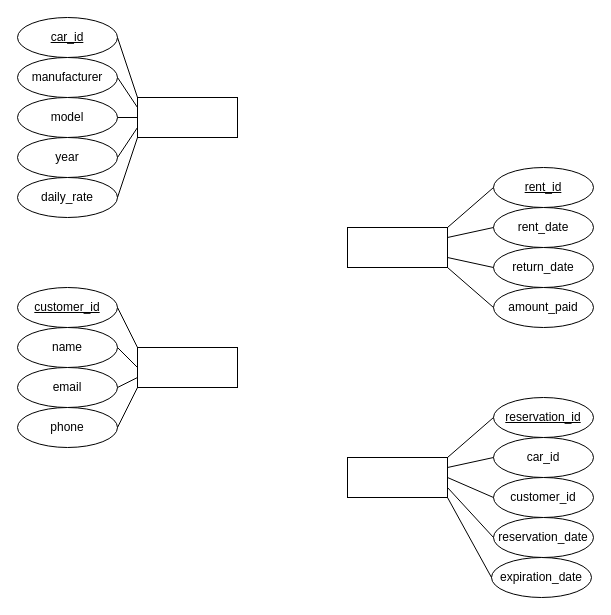
Image size: 611x615. Some labels were removed from this diagram. Here are the shapes that lost their labels. From the top down, the centre of each, then its label:
At pixel 187 117: "Car".
At pixel 397 247: "Rent".
At pixel 187 367: "Customer".
At pixel 397 477: "Reservation".
